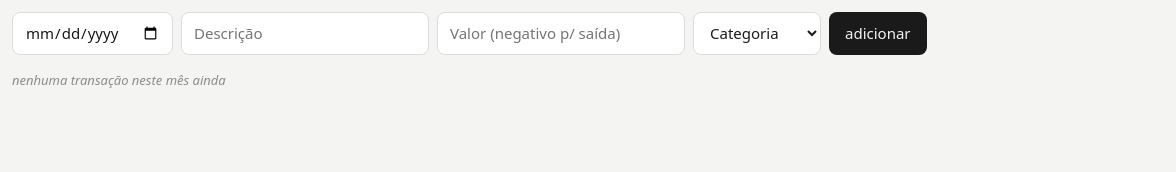
Test: TelaExtrato › recarrega a lista do servidor após criar uma transação
Expected: the text "nenhuma transação neste mês ainda" is shown, [12, 70, 226, 88]
Type "2026-08-10" into the date field named "Data" at [92, 33], box [12, 12, 173, 54]
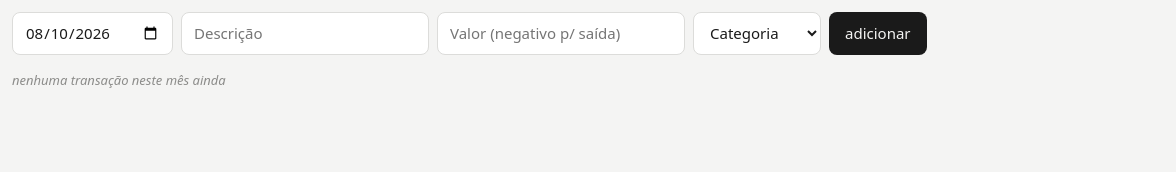
Type "Mercado do bairro" into the field labelled "Descrição" at [305, 33], box [181, 12, 429, 54]
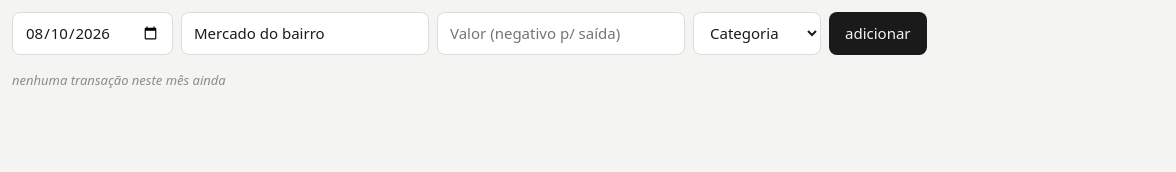
Type "-120.5" into the number field labelled "Valor" at [561, 33], box [437, 12, 685, 54]
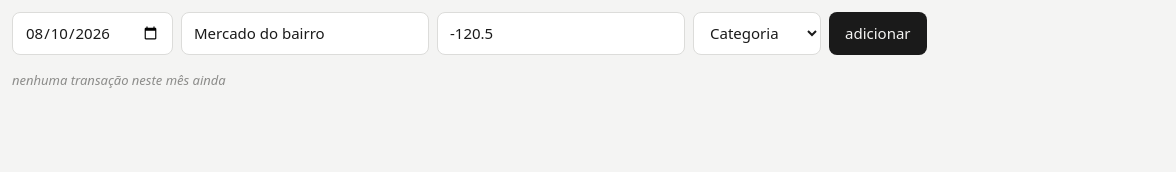
Select "Mercado" in the dropdown named "Categoria" at [757, 33], box [693, 12, 821, 54]
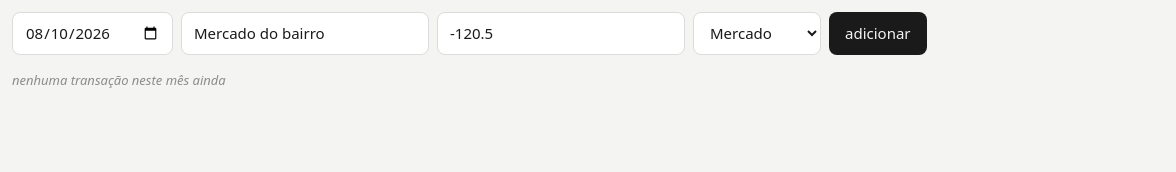
Click the button "adicionar" at [878, 33], box [829, 12, 926, 54]
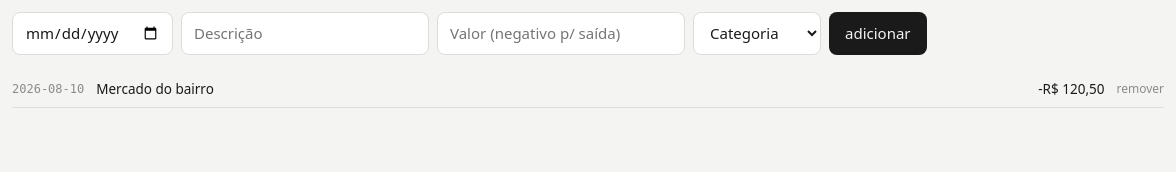
Expected: the text "Mercado do bairro" is shown, [96, 80, 214, 98]
